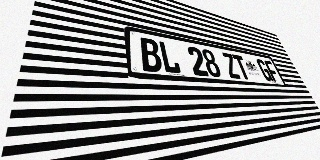2: (186, 46, 209, 76)
8: (200, 48, 222, 77)
B: (139, 37, 163, 73)
F: (263, 60, 281, 82)
G: (255, 58, 274, 82)
L: (158, 40, 182, 74)
T: (232, 54, 252, 80)
Z: (221, 52, 241, 79)
